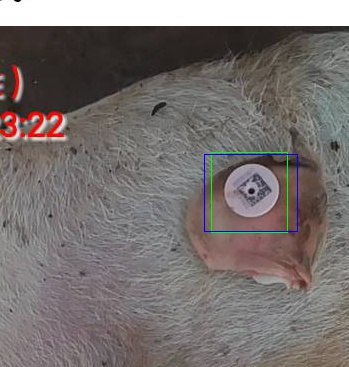text: (211, 152, 287, 232)
